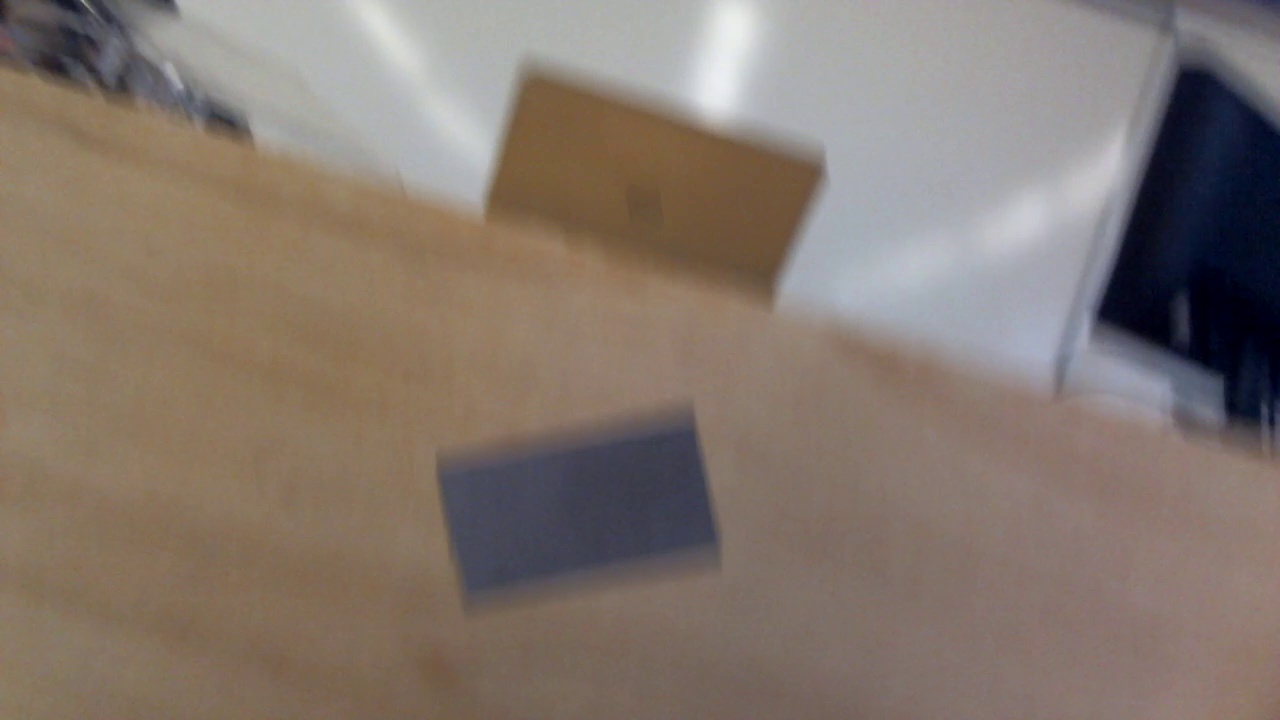Tape: (432, 402, 725, 590)
